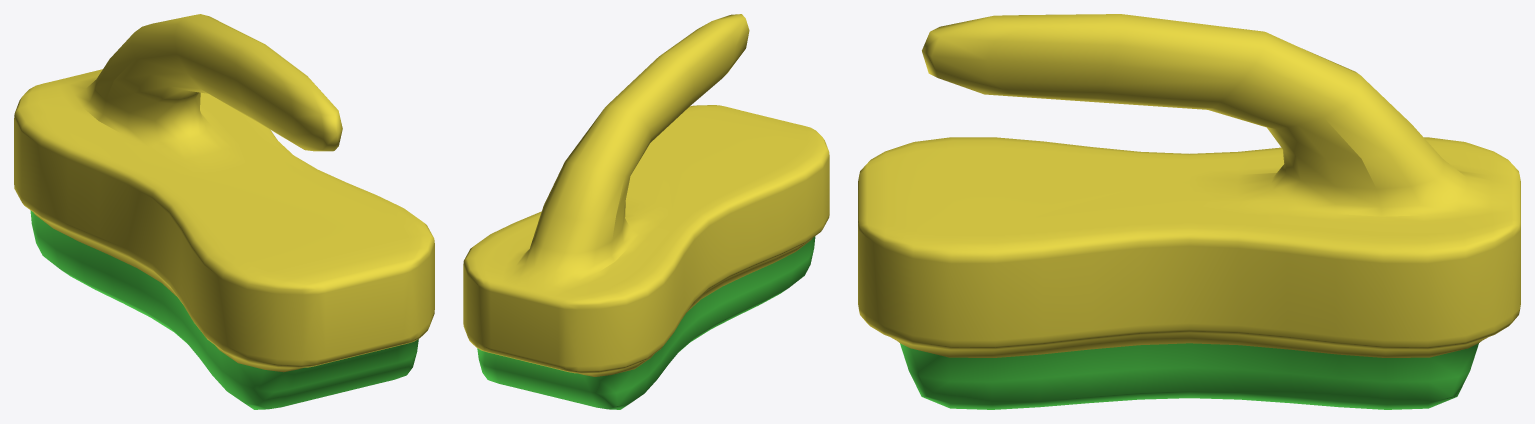
File: Brush.fbx
3 views of the same model, side by side, from view 1: azimuth 30°, elevation 25°; view 2: azimuth 150°, elevation 25°; view 3: azimuth 270°, elevation 25° (orthographic). The views are drawn at different scales.
Visible parts, largest first — view 1: Cube; view 2: Cube; view 3: Cube.
Part boxes in pixels (x1,y1,x2,y2): Cube: [14, 14, 434, 409]; Cube: [463, 14, 829, 409]; Cube: [858, 14, 1520, 409].
Bounding box in the file's own units: 127 × 177 × 301.
